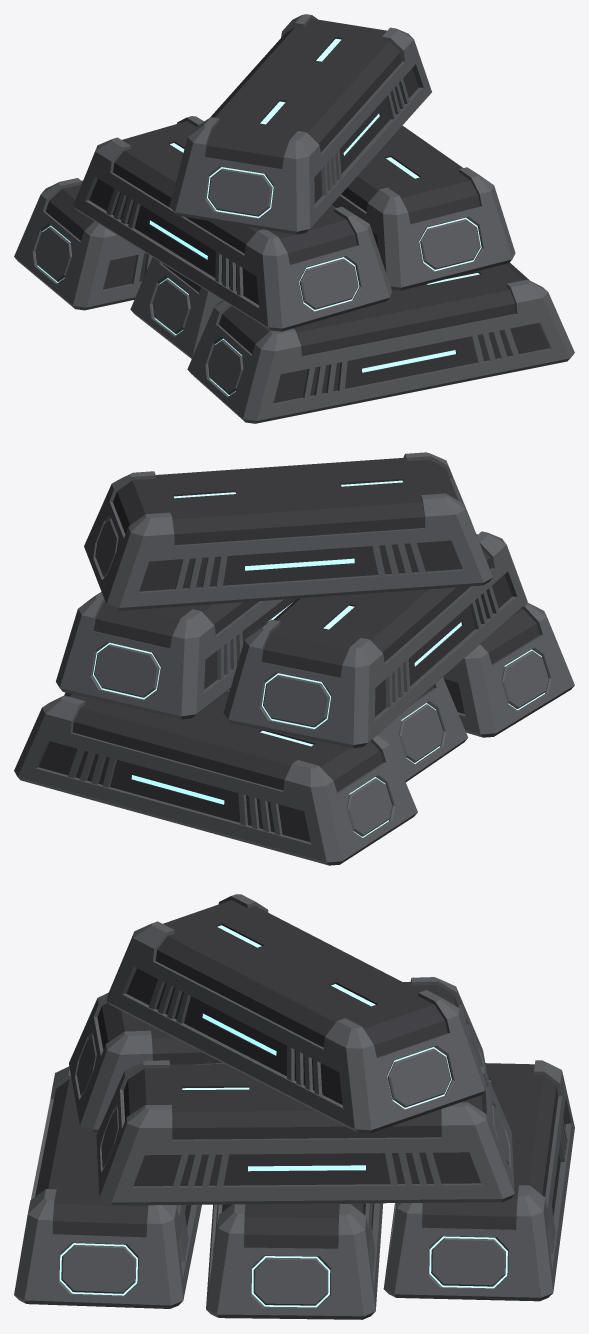
File: SM_Thorium_Ingot.fbx
3 renders of one model, top to bottom at view 1: azimuth 30°, elevation 25°; view 2: azimuth 150°, elevation 25°; view 3: azimuth 270°, elevation 25°, orthographic. The views are drawn at different scales.
Visible parts, largest first — view 1: SM_Thorium_Ingot; view 2: SM_Thorium_Ingot; view 3: SM_Thorium_Ingot.
Part boxes in pixels (box(x1,y1,x2,y2)): SM_Thorium_Ingot: box(14, 14, 574, 423); SM_Thorium_Ingot: box(14, 452, 574, 865); SM_Thorium_Ingot: box(14, 894, 574, 1319).
Size of the model in its own units: 24.47 by 15 by 29.41.
